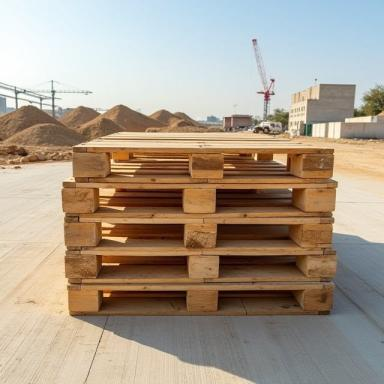pallet: (72, 132, 335, 183), (61, 176, 338, 218), (65, 247, 337, 284), (64, 217, 335, 251), (67, 282, 335, 315), (217, 290, 294, 308), (217, 224, 292, 239), (102, 223, 183, 236), (99, 188, 182, 198), (220, 255, 297, 265), (216, 189, 292, 199), (103, 291, 186, 297)
